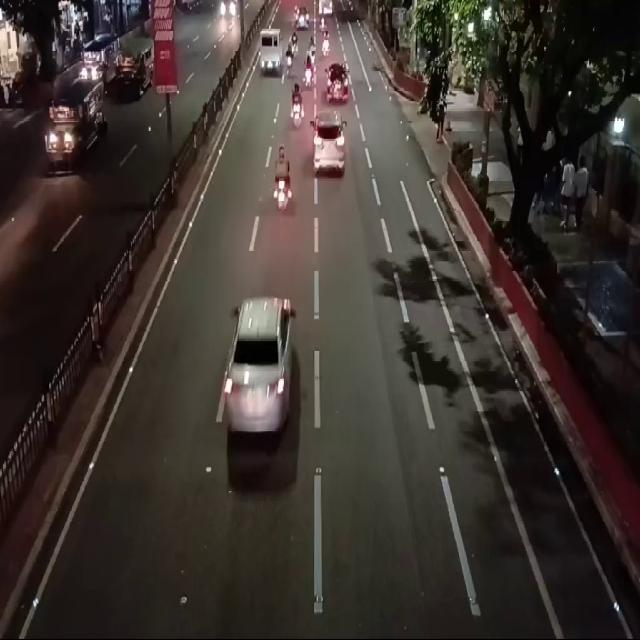car: (227, 284, 299, 434), (313, 112, 348, 184), (258, 28, 284, 78), (326, 59, 350, 106)
jeepney: (50, 70, 101, 180), (116, 37, 156, 102), (77, 35, 118, 86)
motorcycle: (272, 146, 292, 220), (292, 80, 304, 132), (286, 30, 298, 76), (303, 46, 314, 86), (311, 33, 316, 68)
